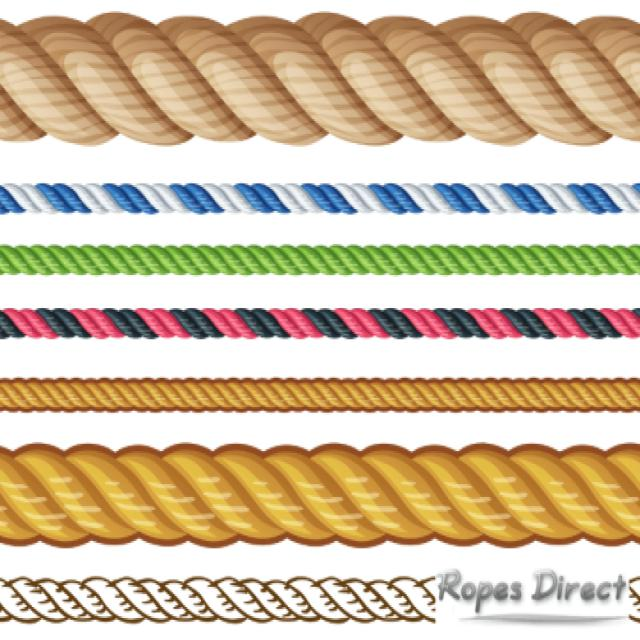Rope: (0, 161, 640, 431)
